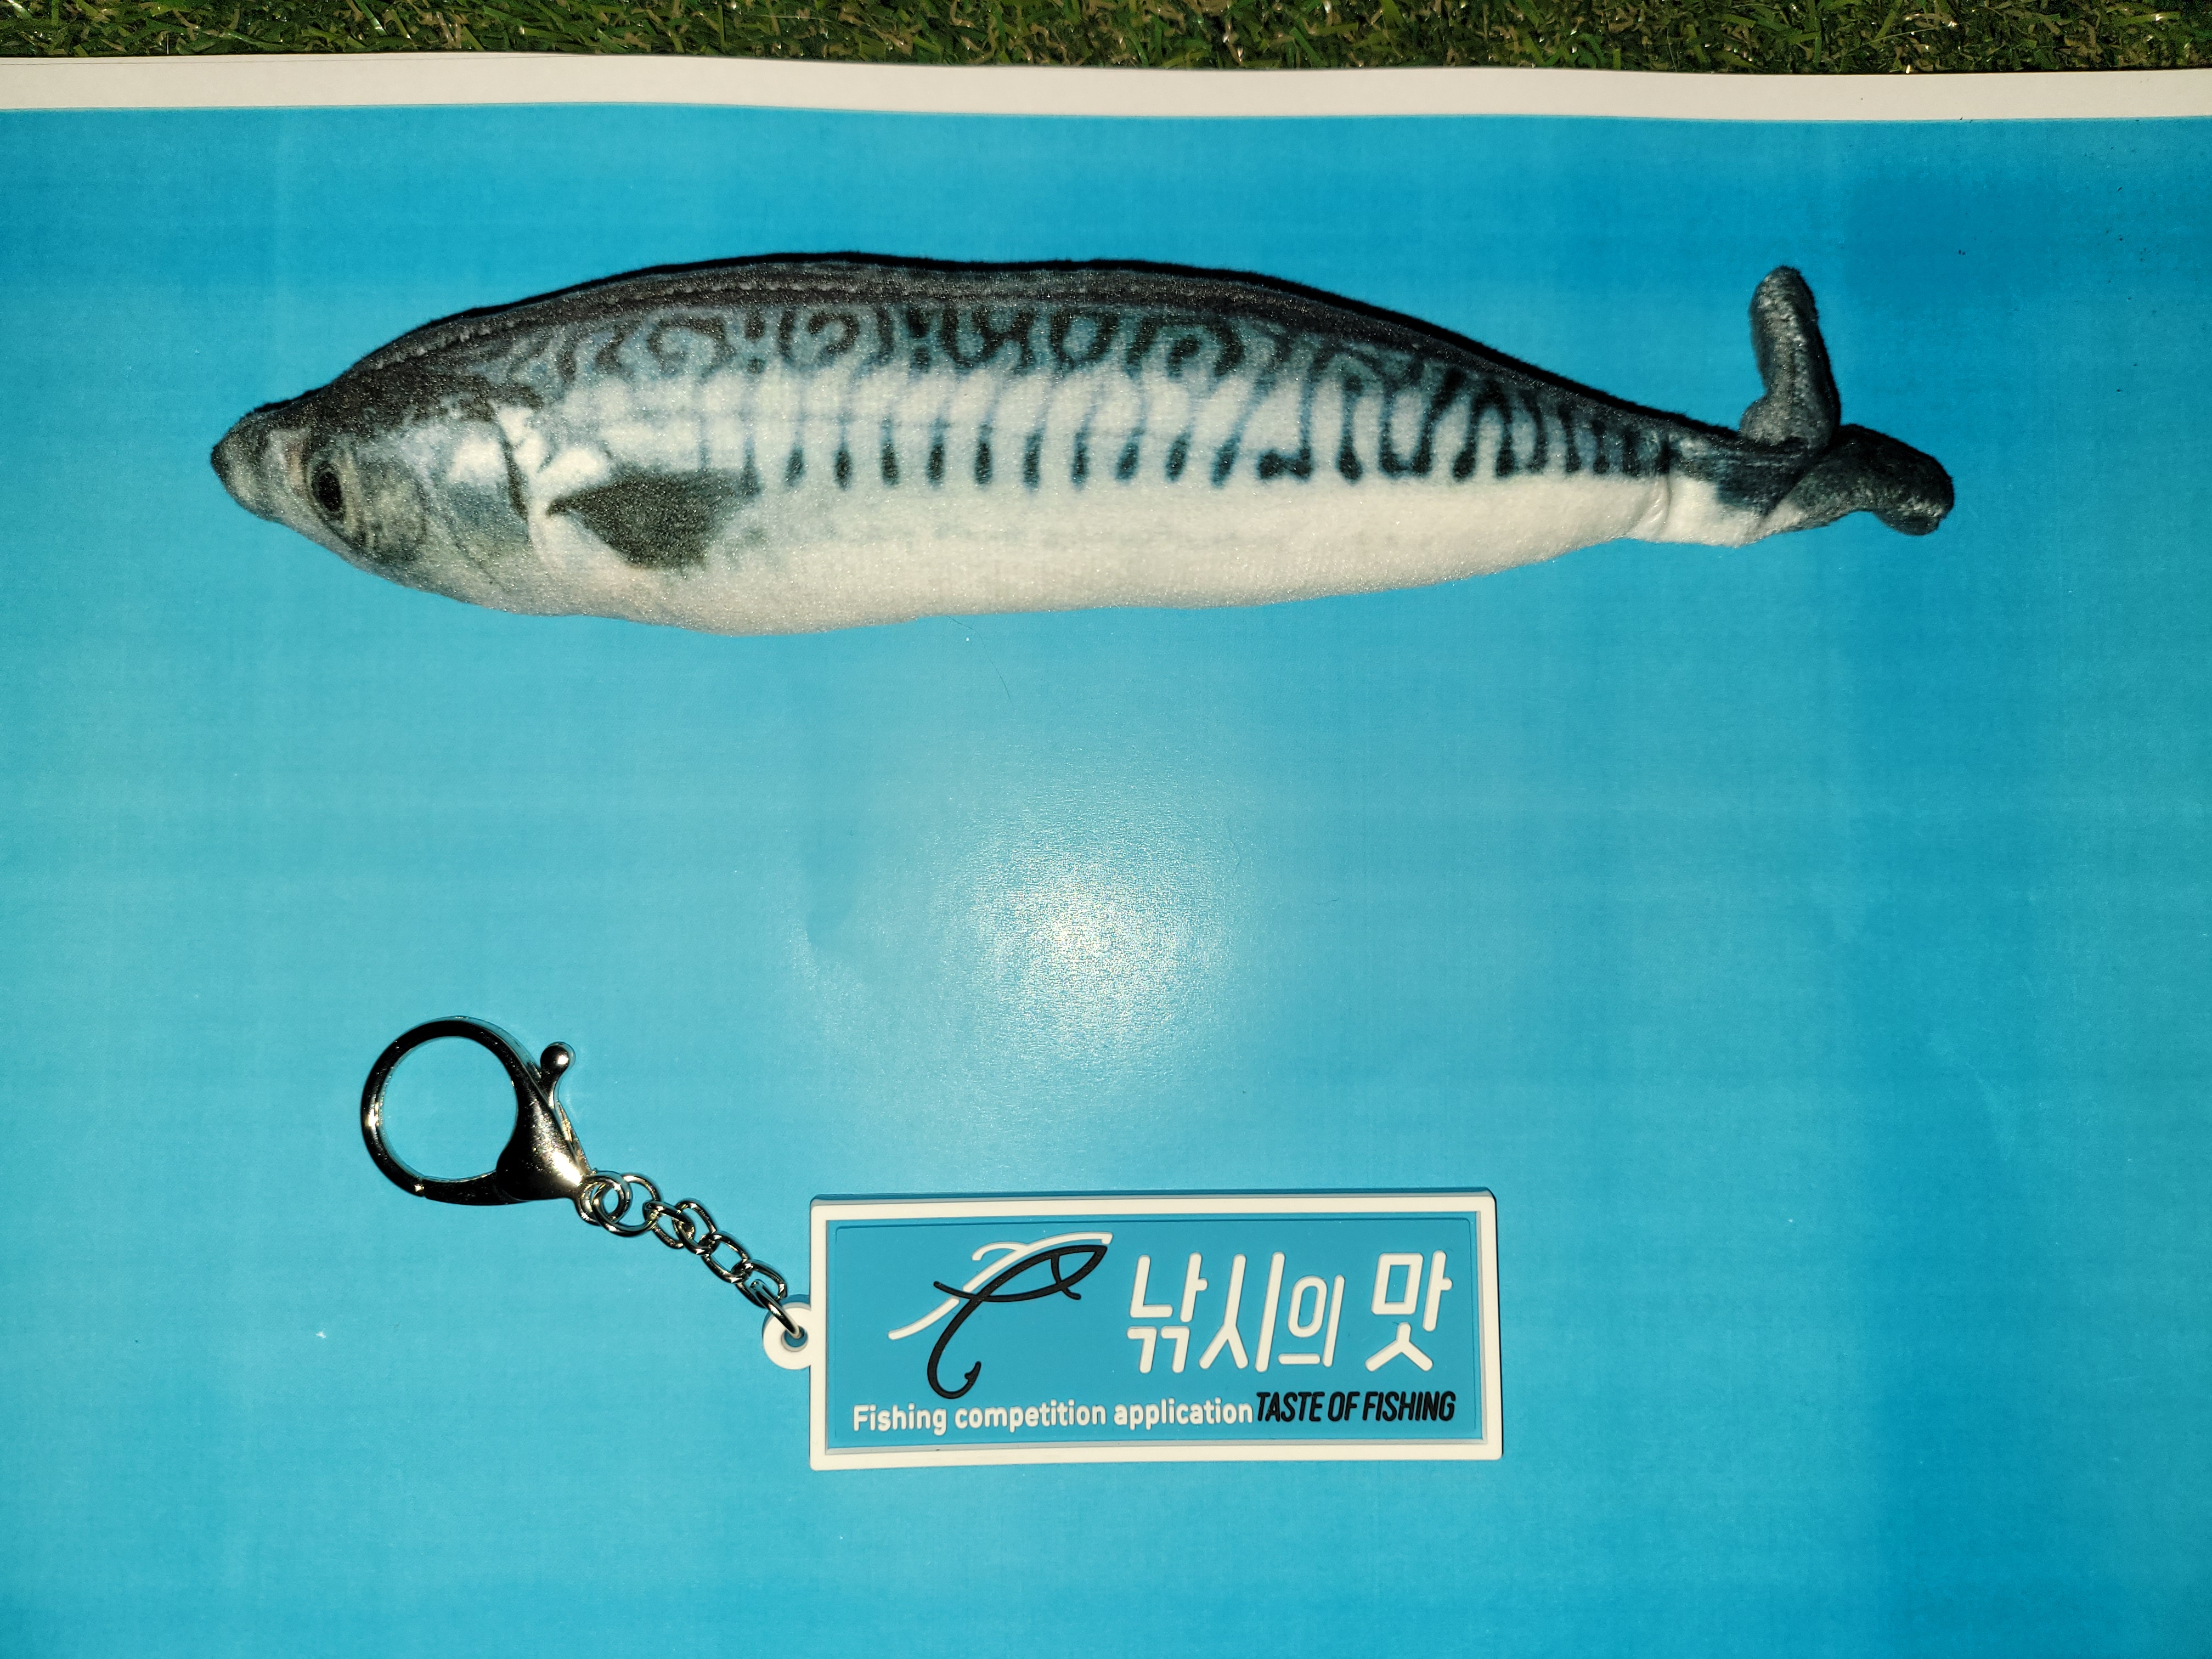fish: (212, 249, 1965, 631)
tag: (813, 1194, 1508, 1473)
